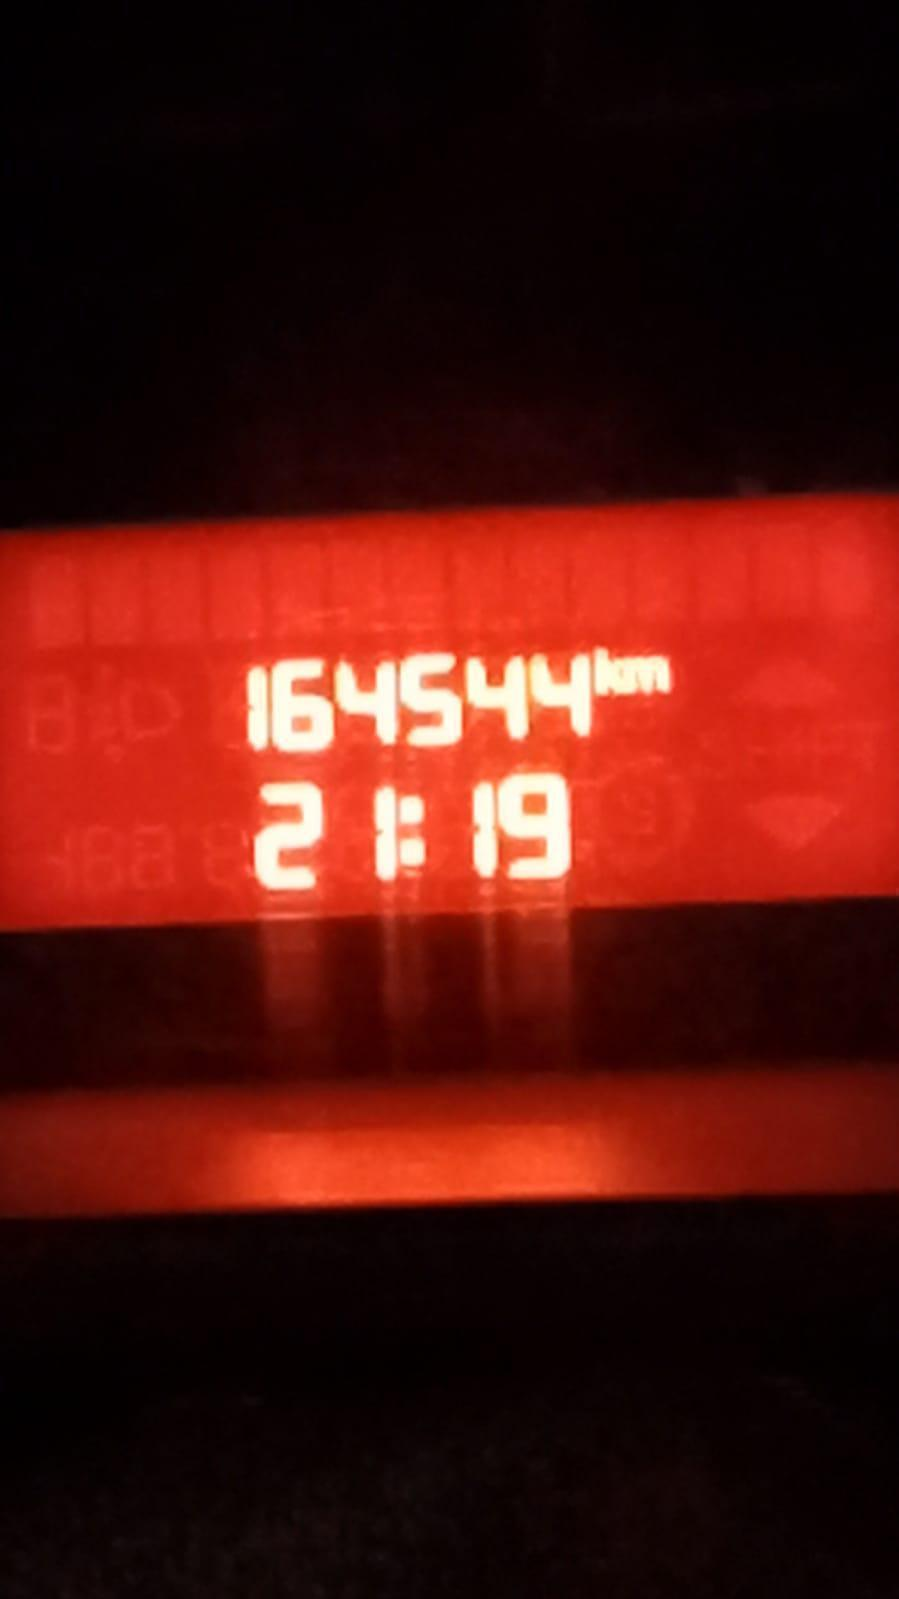1: (369, 784, 398, 882), (468, 780, 496, 880), (244, 661, 270, 752)
2: (255, 778, 325, 892)
4: (528, 650, 592, 742), (333, 657, 398, 745), (464, 652, 529, 740)
5: (398, 649, 464, 748)
6: (270, 655, 331, 754)
9: (497, 767, 574, 881)
X: (398, 793, 428, 870), (622, 653, 672, 695), (592, 644, 623, 696)
odometer: (167, 615, 708, 905)
